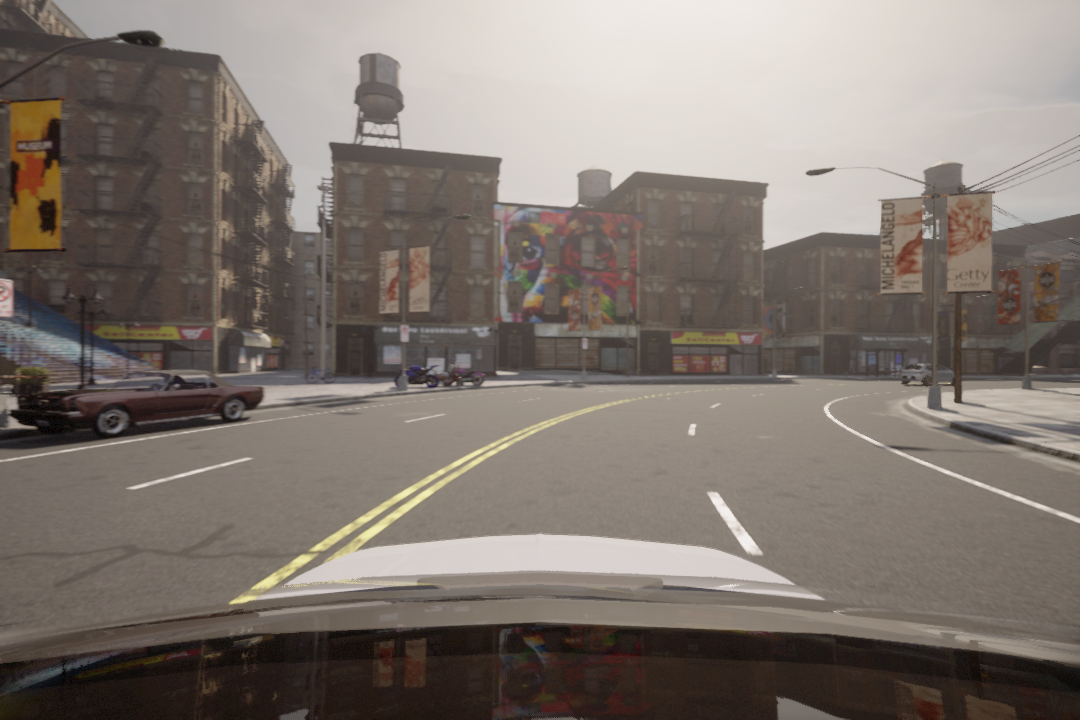TrafficSign_nstop: (1, 280, 13, 317)
